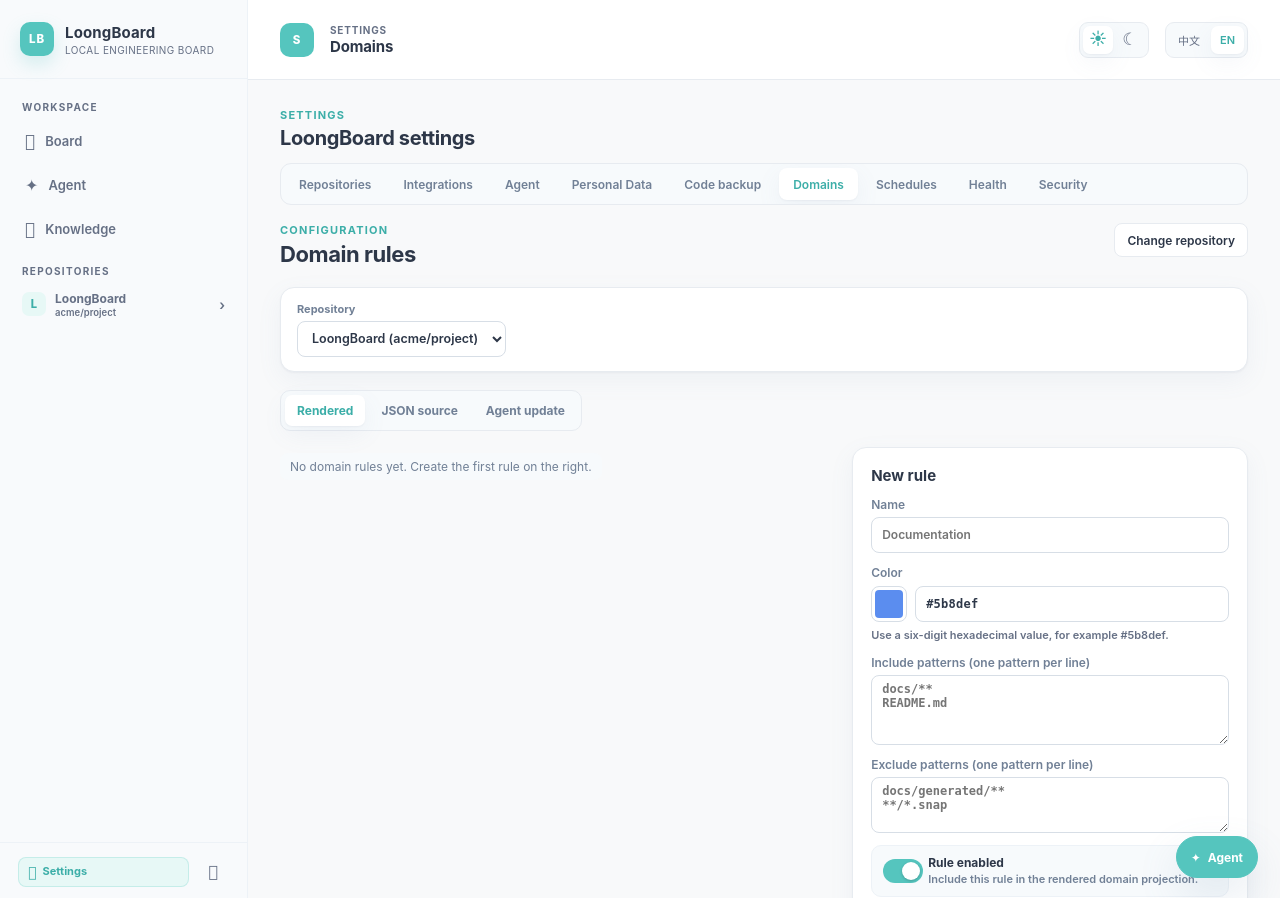
Test: domain classification UI › keeps the prompt read-only until editing, persists saves, and restores the canonical default
This screenshot has width=1280, height=898.
Expected: the heading "Domain rules" is shown, [280,241,416,268]
Click the tab "Agent update" at coordinates (525, 410), box [474,394,577,426]
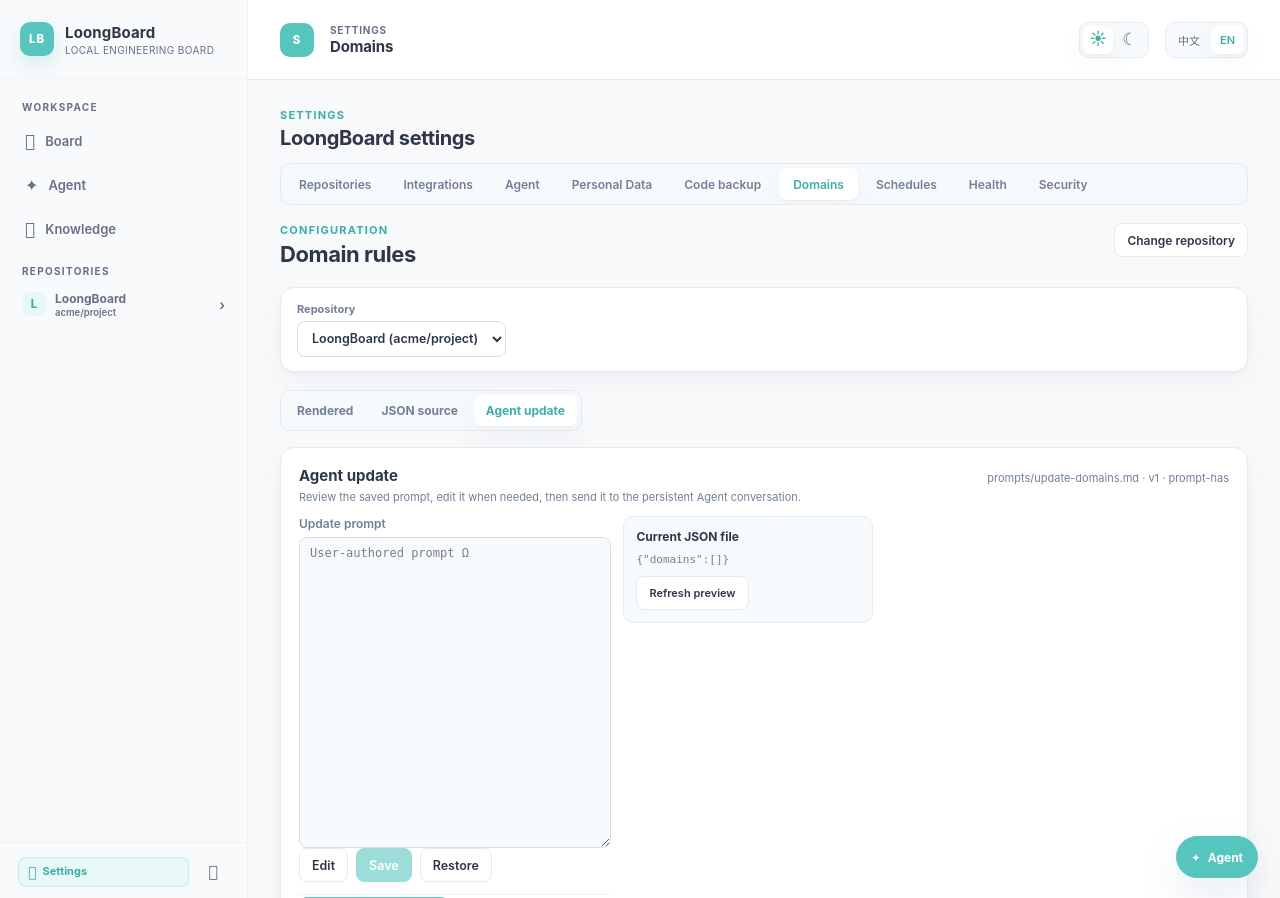
Expected: the text box named "Domain update prompt" holds "User-authored prompt Ω", [299,536,611,848]
Click the button "Edit" at coordinates (324, 865), box [299,848,348,882]
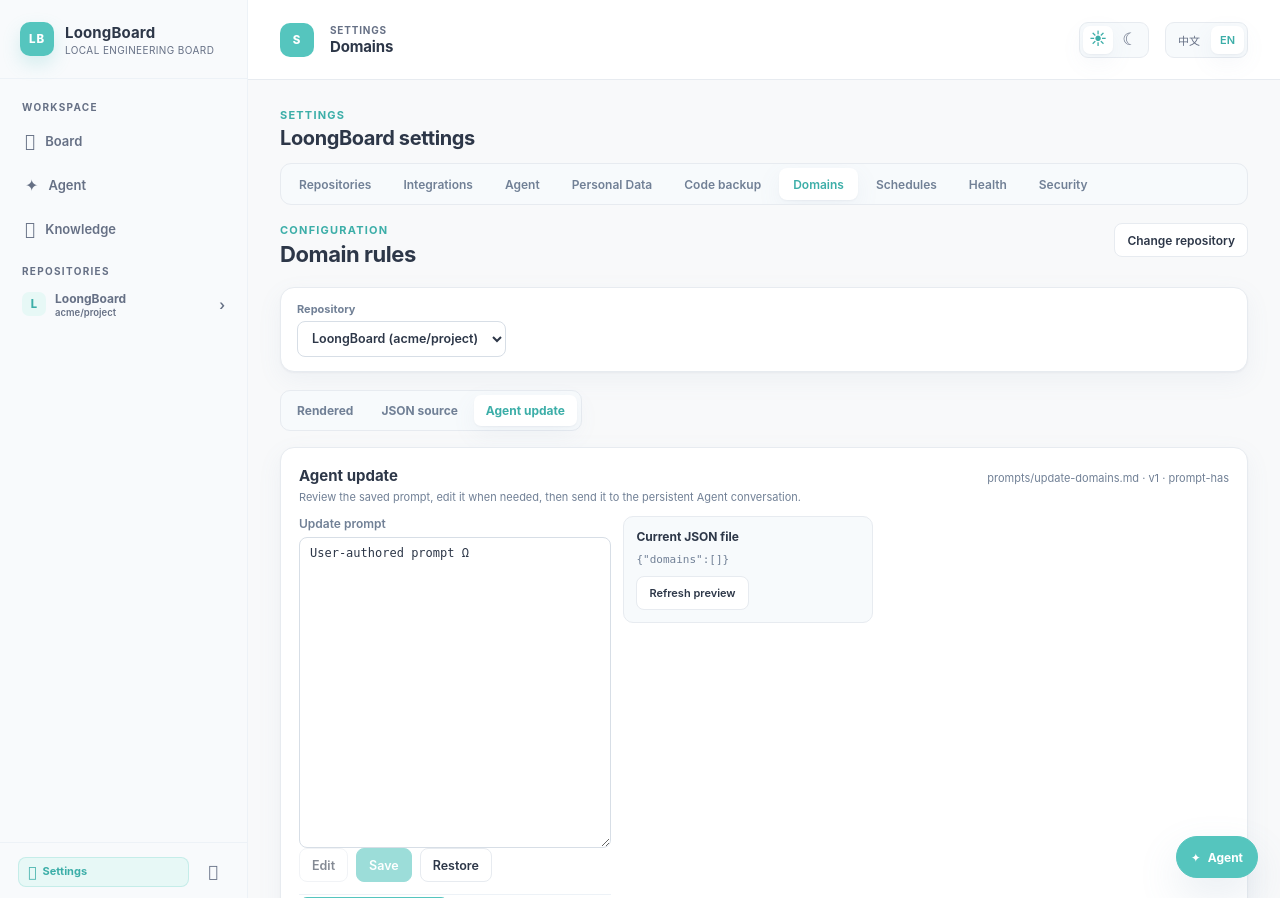
Expected: the text box named "Domain update prompt" does not have attribute readonly
Replace the text in the text box named "Domain update prompt" with "User-edited prompt" at coordinates (455, 692), box [299,536,611,848]
(page scrolled)
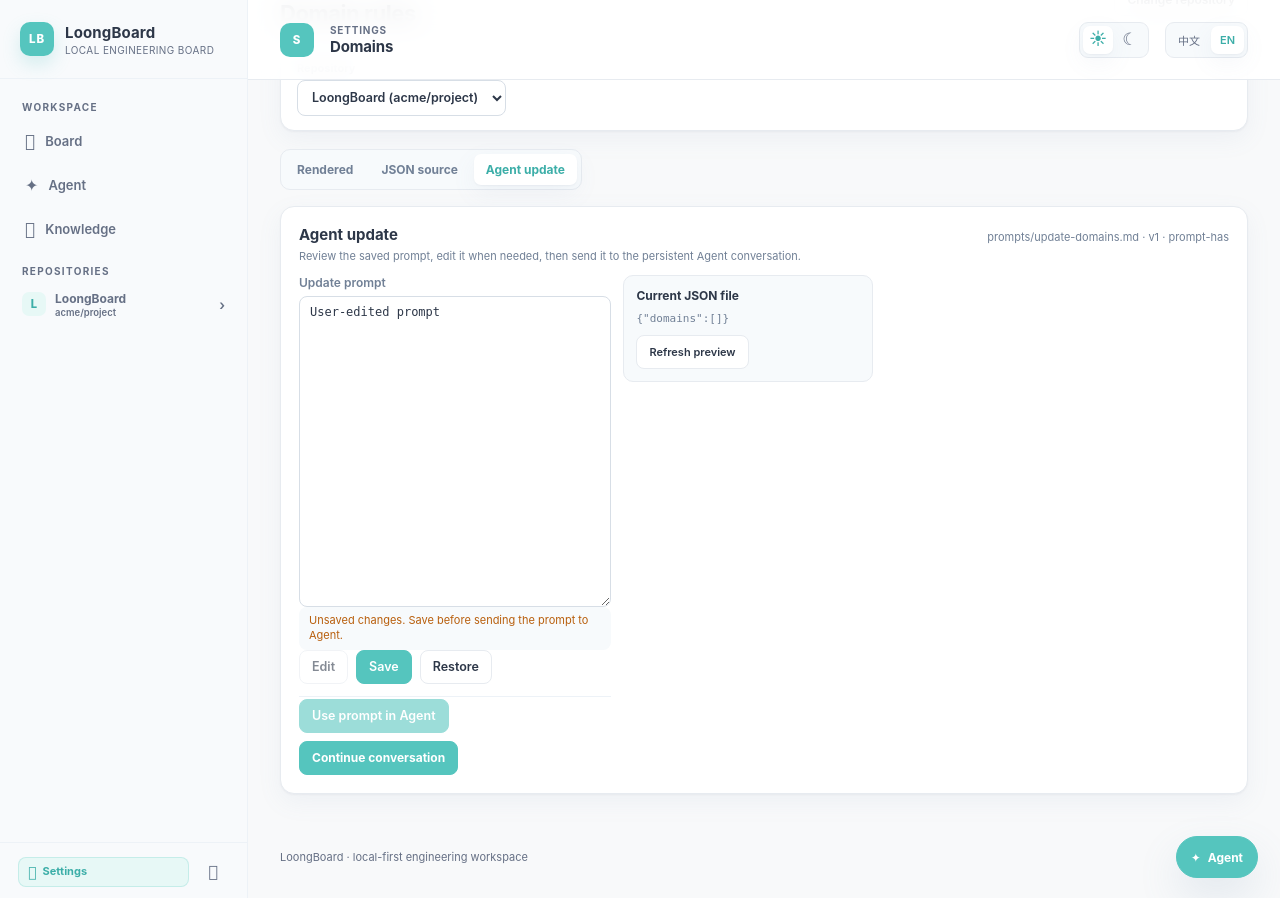
Click the button "Save" at coordinates (384, 667), box [356,650,412,684]
(page scrolled)
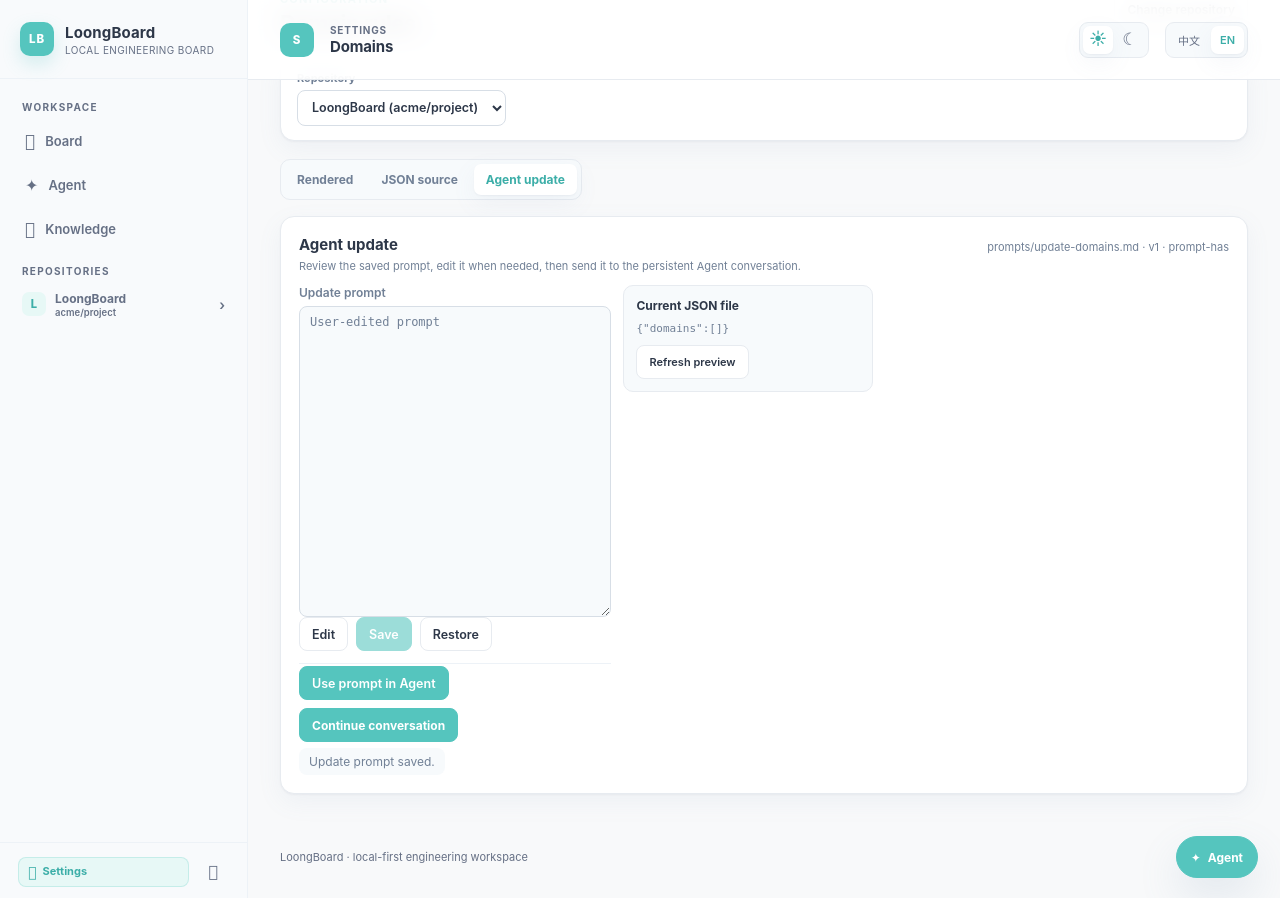
Expected: the text box named "Domain update prompt" has attribute readonly, [299,306,611,617]
Click the button "Restore" at coordinates (456, 634), box [420,617,492,651]
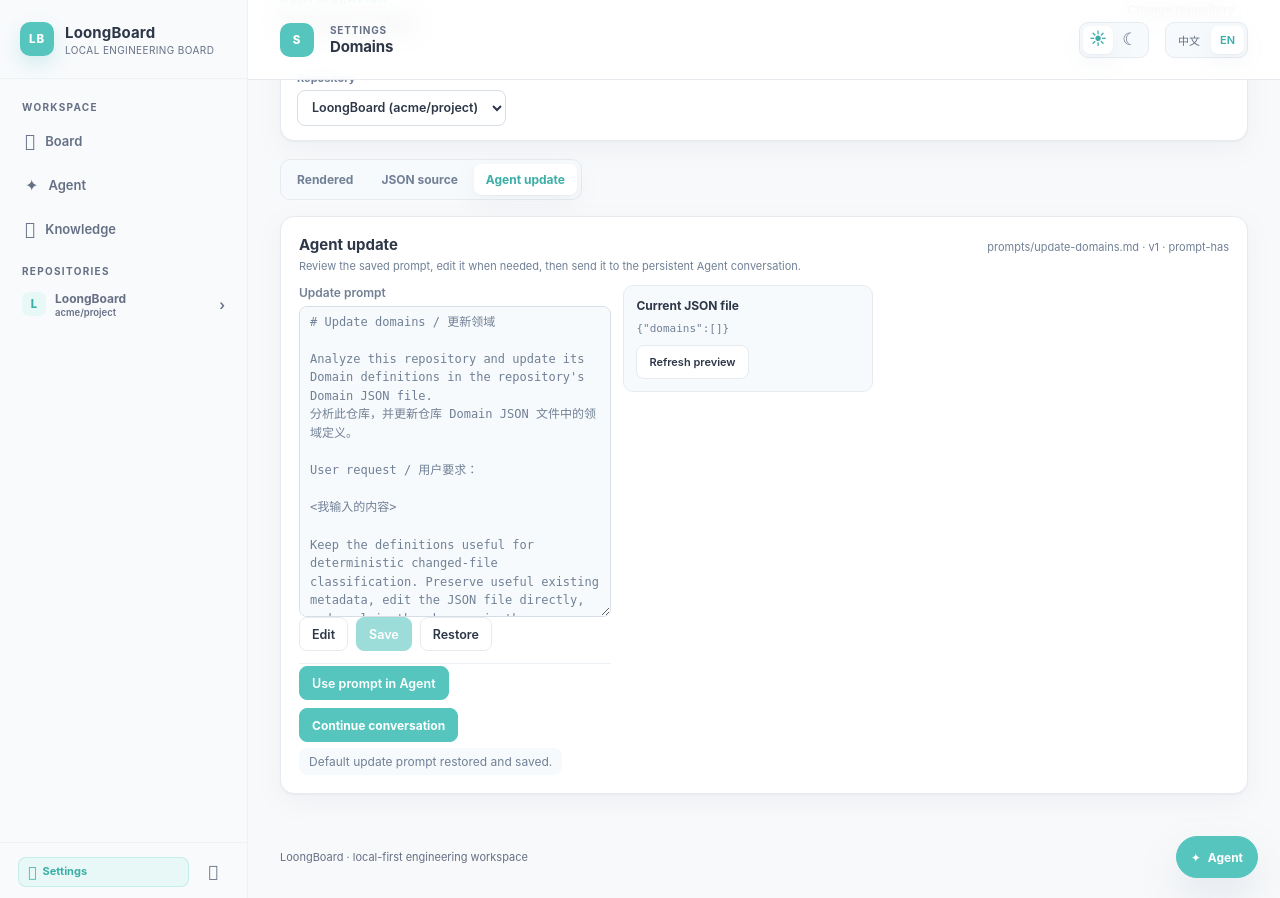
Expected: the text "prompts/update-domains.md · v1 · prompt-has" is shown, [987,240,1229,254]
Expected: the text "Default update prompt restored and saved." is shown, [299,748,562,775]
